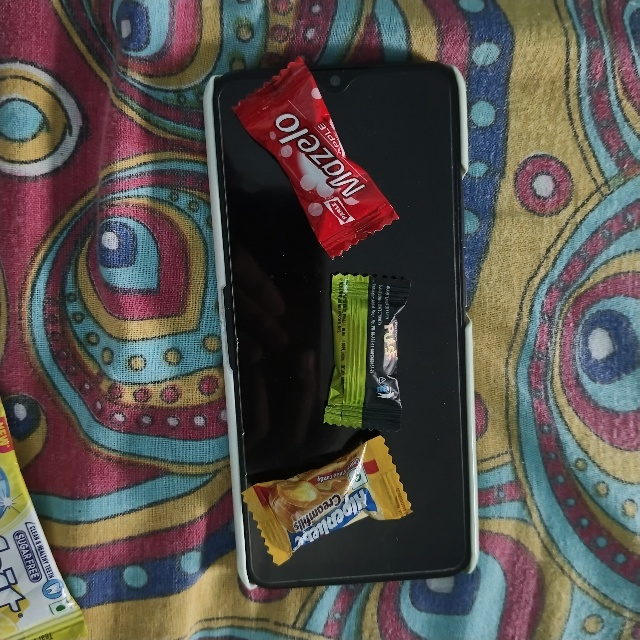Alpenlibe Creamfills: (241, 494, 394, 576)
Mazelo: (224, 99, 310, 297)
Pulse: (329, 270, 405, 431)
